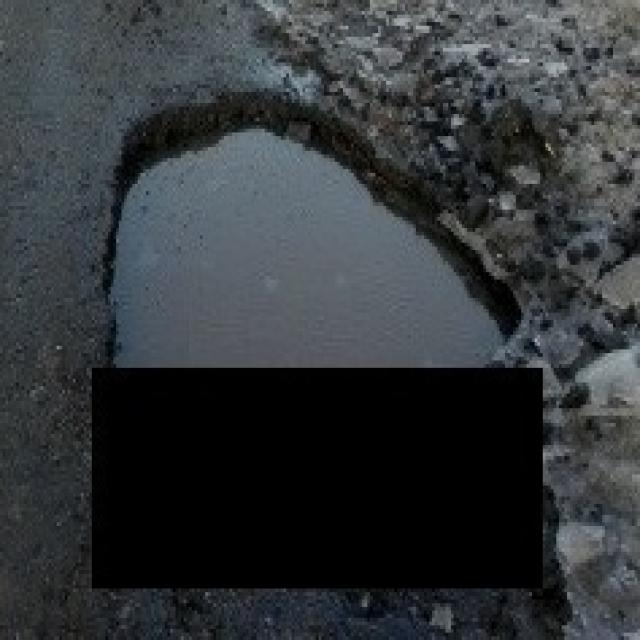road-pothole: (101, 72, 536, 372)
